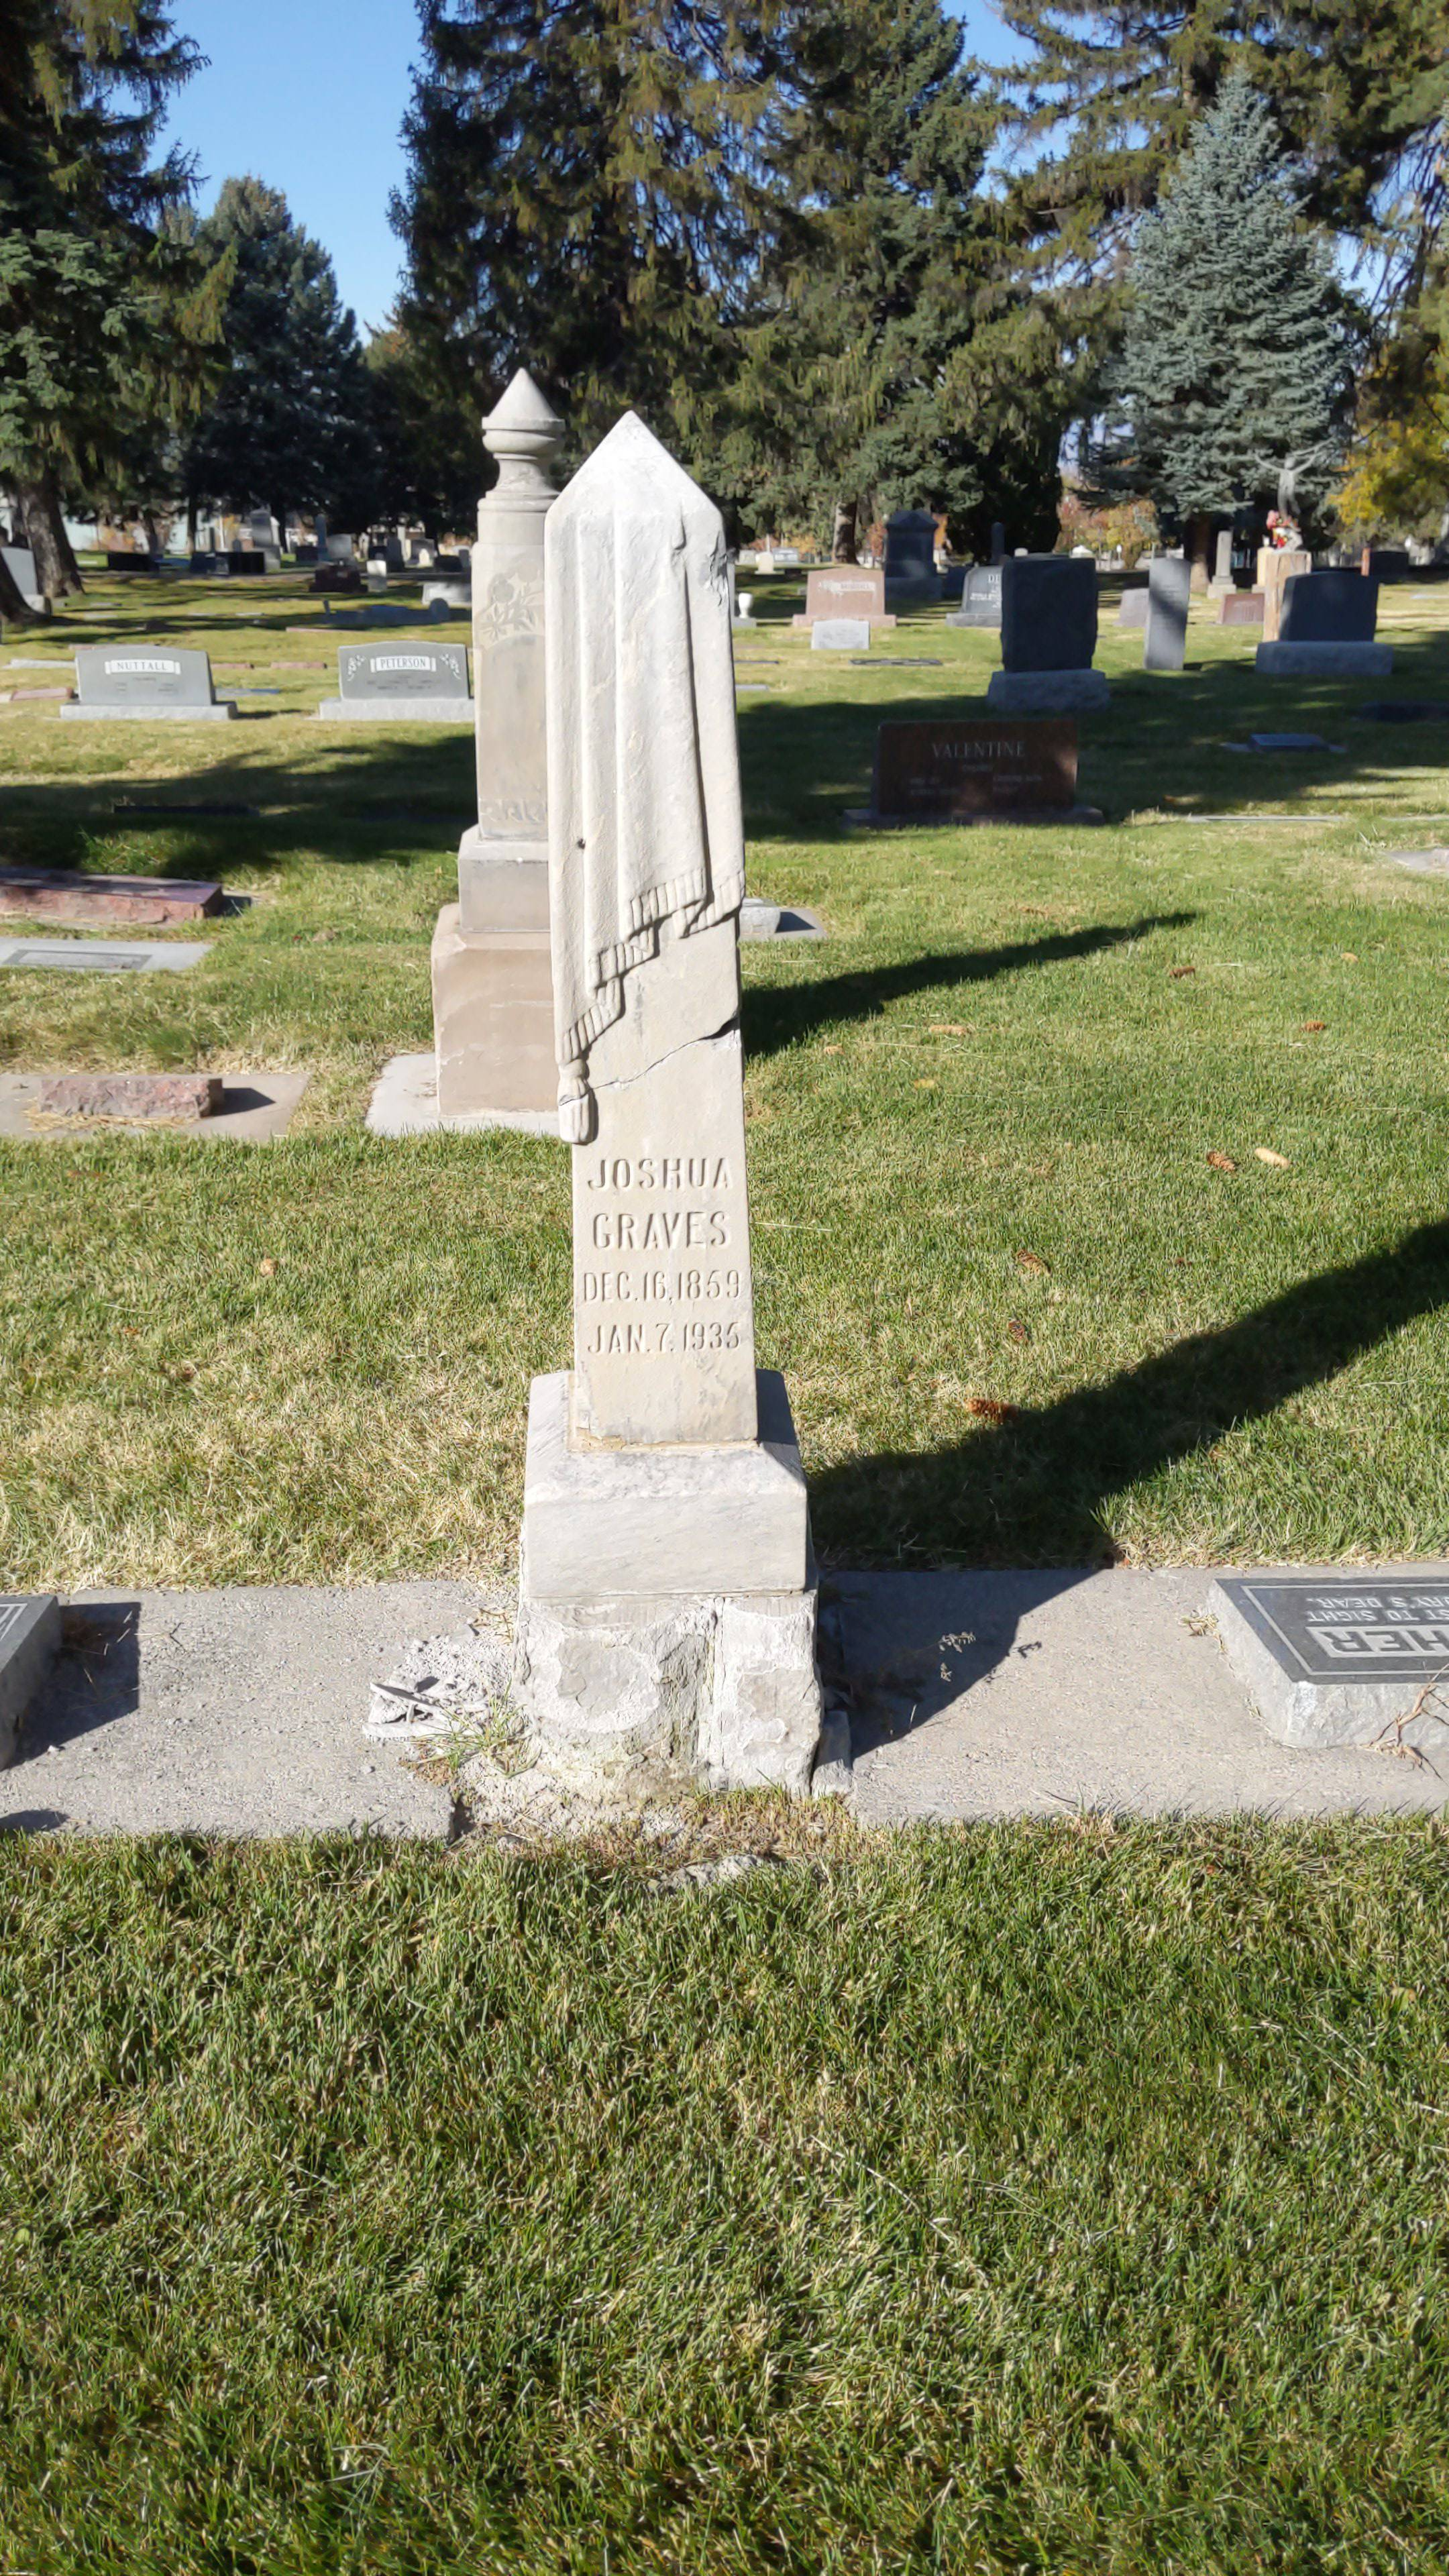obelisk: (527, 416, 747, 1449)
